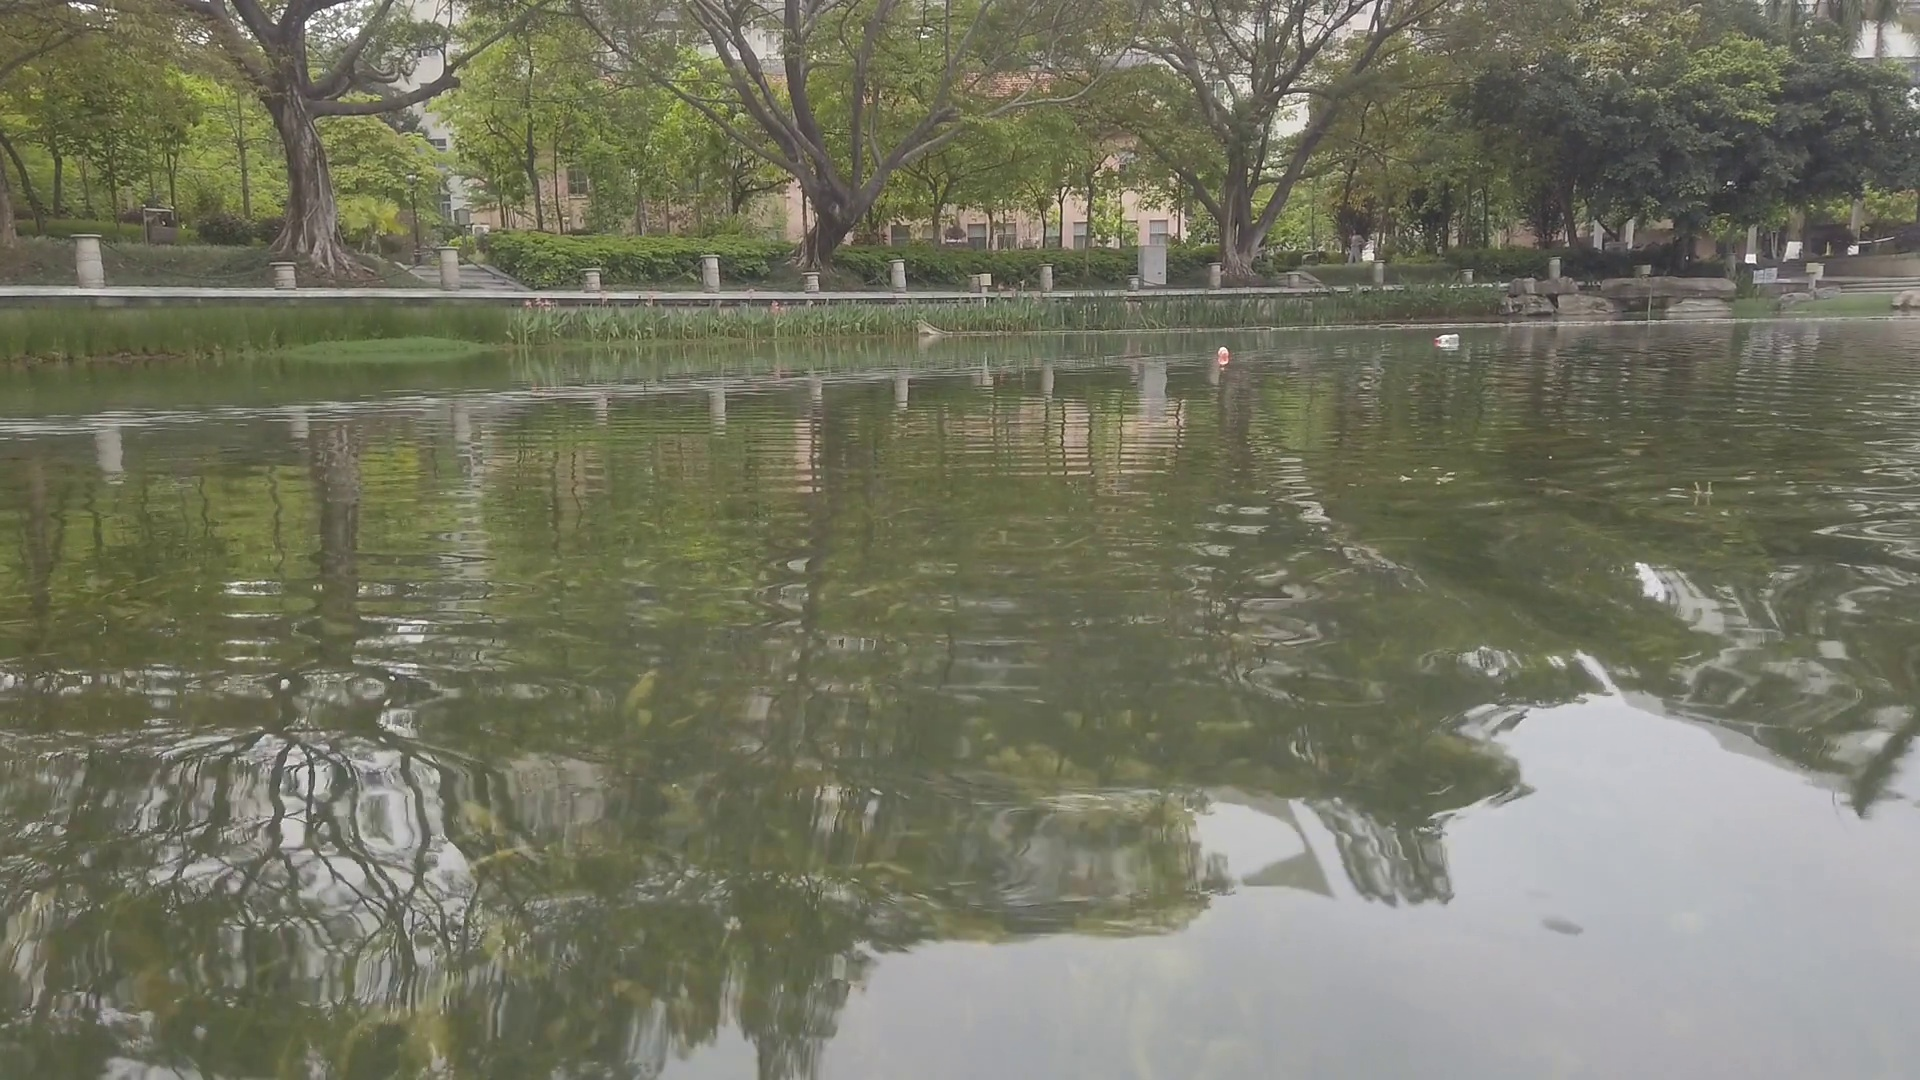bottle: (1435, 331, 1461, 345), (1218, 344, 1230, 361)
